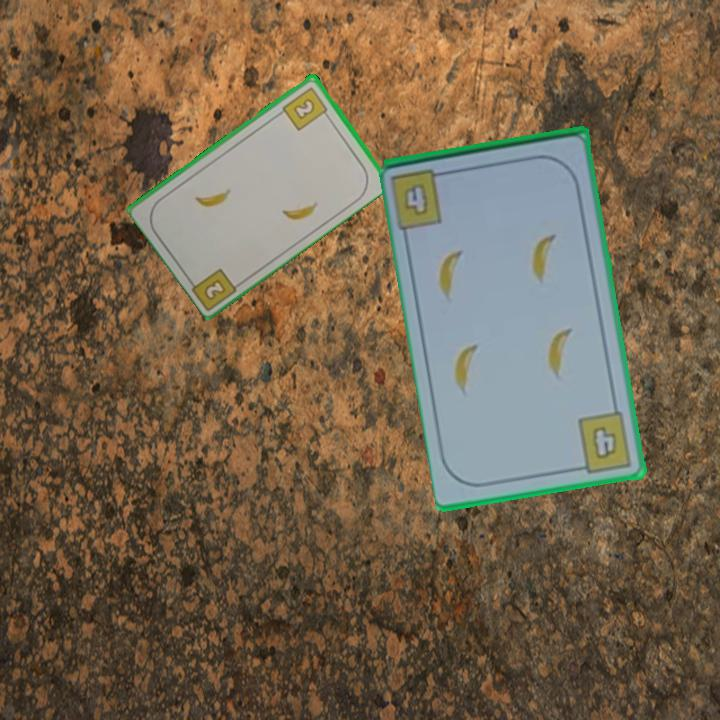2b: (279, 83, 332, 133), (200, 275, 229, 303)
4b: (572, 408, 636, 476), (404, 183, 429, 216)
